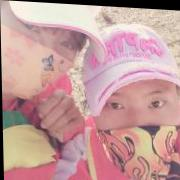OK: (4, 8, 81, 104)
WRONG: (98, 80, 178, 177)
